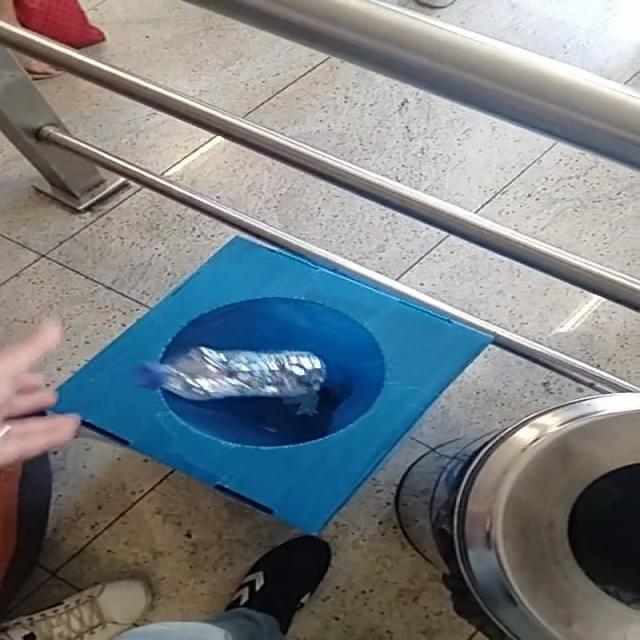plastic: (136, 347, 327, 416)
